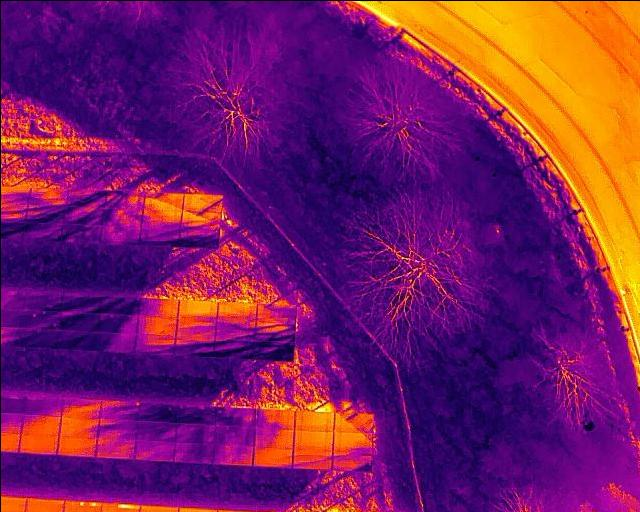No-Anomaly: (253, 446, 292, 468), (293, 428, 333, 449), (295, 410, 333, 431), (21, 414, 59, 434), (19, 434, 58, 453), (58, 436, 95, 456), (178, 299, 216, 316), (25, 497, 64, 512)
Shadowing: (213, 444, 253, 467), (179, 226, 221, 247), (23, 288, 64, 309), (332, 431, 373, 452), (93, 331, 133, 352), (173, 442, 213, 463), (215, 318, 256, 338), (212, 337, 253, 357), (254, 427, 293, 448), (176, 315, 215, 336), (254, 408, 294, 428), (175, 423, 215, 443), (16, 327, 56, 347), (97, 439, 137, 459), (19, 307, 59, 327), (214, 425, 254, 445), (55, 329, 95, 349), (95, 314, 137, 333), (101, 224, 143, 243), (134, 334, 173, 354), (135, 440, 174, 460), (213, 406, 254, 425), (136, 402, 174, 422), (58, 417, 96, 437), (253, 341, 293, 360), (134, 422, 174, 441), (333, 412, 373, 431), (98, 296, 140, 314), (174, 404, 213, 423), (292, 449, 331, 468), (106, 189, 143, 209), (59, 400, 100, 418), (216, 300, 257, 318), (96, 419, 134, 438), (59, 310, 97, 329), (143, 193, 183, 211), (257, 321, 293, 341), (255, 302, 295, 320), (64, 206, 104, 224), (97, 402, 137, 420), (174, 337, 214, 355), (138, 227, 180, 244), (62, 293, 99, 312), (21, 397, 60, 415), (61, 222, 100, 240), (140, 297, 178, 315), (138, 316, 176, 334), (183, 193, 223, 210), (331, 453, 371, 470), (180, 209, 220, 226), (142, 210, 181, 227), (67, 189, 107, 205), (102, 208, 142, 224), (25, 207, 64, 223), (28, 191, 68, 206), (24, 223, 62, 238)
